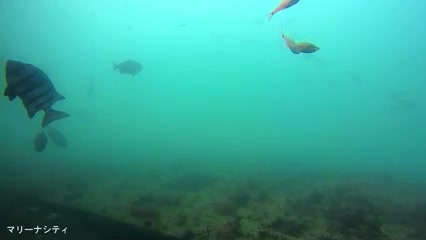ishidai: (3, 54, 72, 121)
smallfish: (107, 57, 151, 79)
